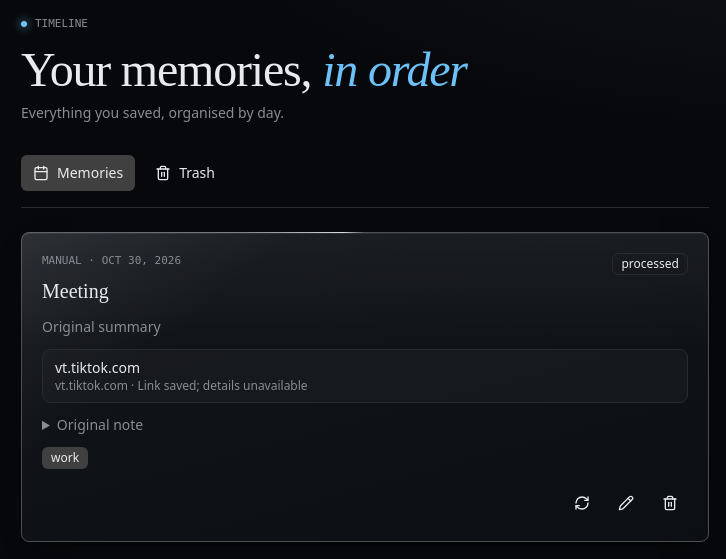
Test: Timeline memory lifecycle interactions › re-reads a saved video by its memory ID and reads back updated insights
Click the button named "Re-read link" at coordinates (582, 503), box [564, 485, 600, 521]
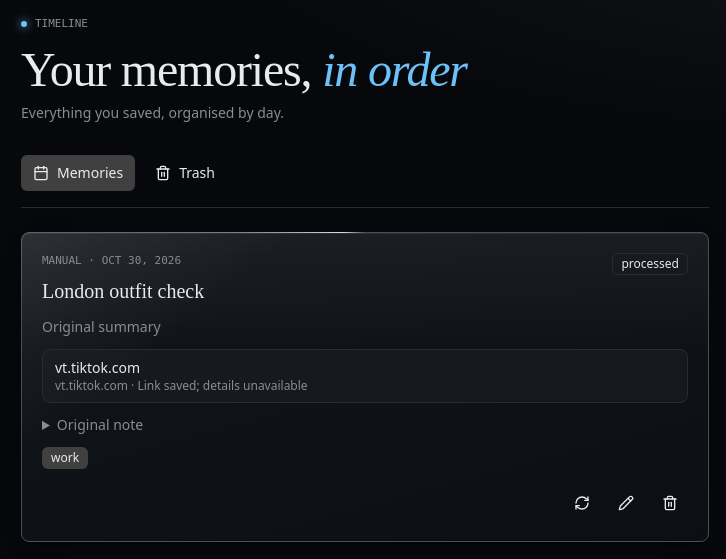
Check: the heading "London outfit check" is shown, box [42, 277, 204, 305]
